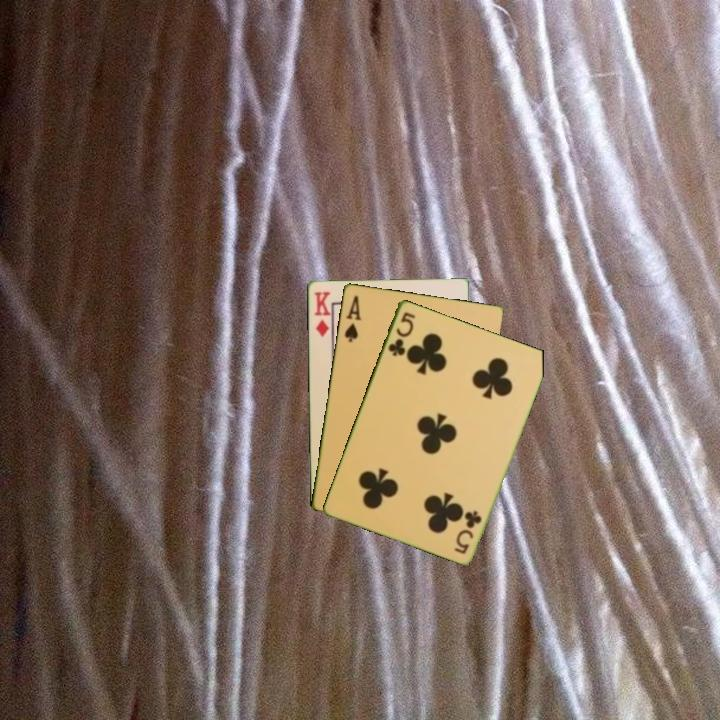5c: (384, 308, 418, 359), (451, 507, 485, 557)
As: (341, 292, 363, 345)
Kd: (311, 288, 333, 340)
